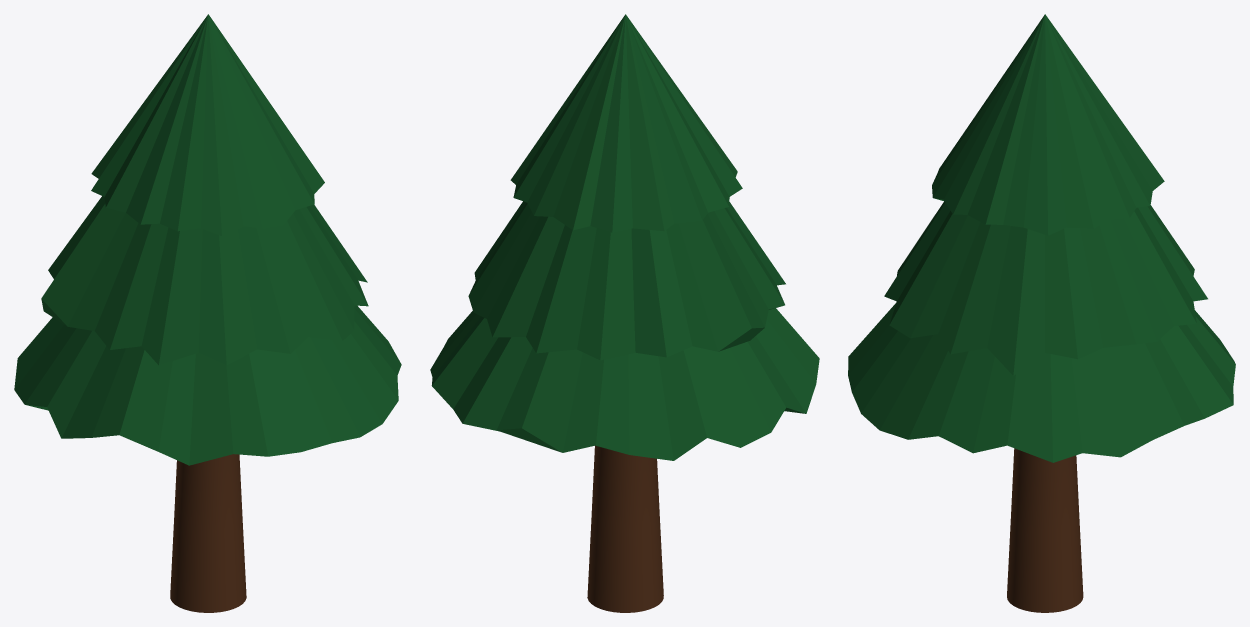
The model's file is firTree.fbx.
3 views of the same model, side by side, from view 1: azimuth 30°, elevation 25°; view 2: azimuth 150°, elevation 25°; view 3: azimuth 270°, elevation 25° (orthographic).
Visible parts, largest first — view 1: FireTree025; view 2: FireTree025; view 3: FireTree025.
Boxes of the visible parts, x1,y1,x2,y2 form: FireTree025: (14,14,401,612); FireTree025: (430,14,819,612); FireTree025: (848,14,1235,612).
Size of the model in its own units: 726 by 1196 by 721.
